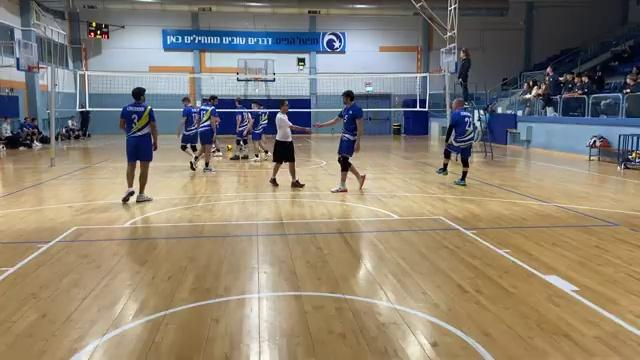ball: (224, 144, 235, 152)
